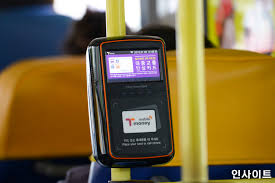terminal: (84, 33, 184, 170)
